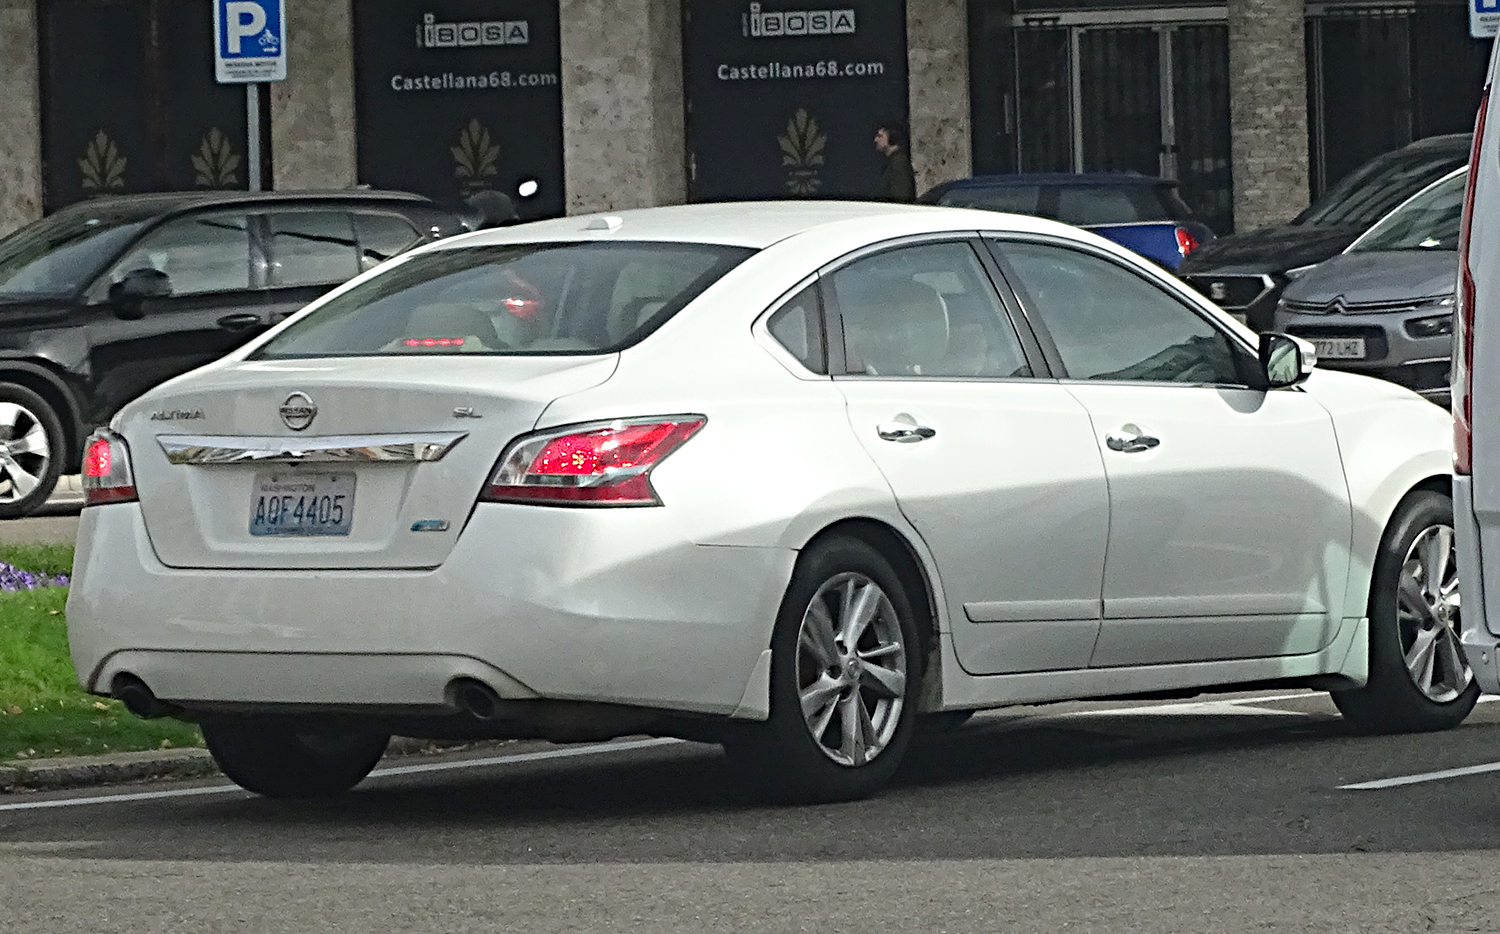license plate: (255, 471, 359, 536)
